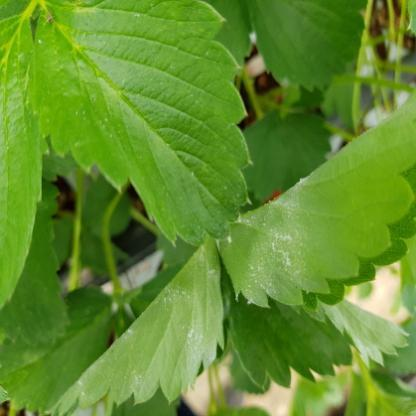Strawberry_Powdery_Mildew_Leaf: (214, 86, 416, 312), (48, 236, 226, 415)
